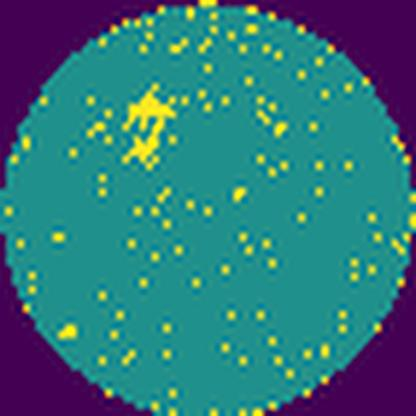Loc: (121, 84, 176, 169)
